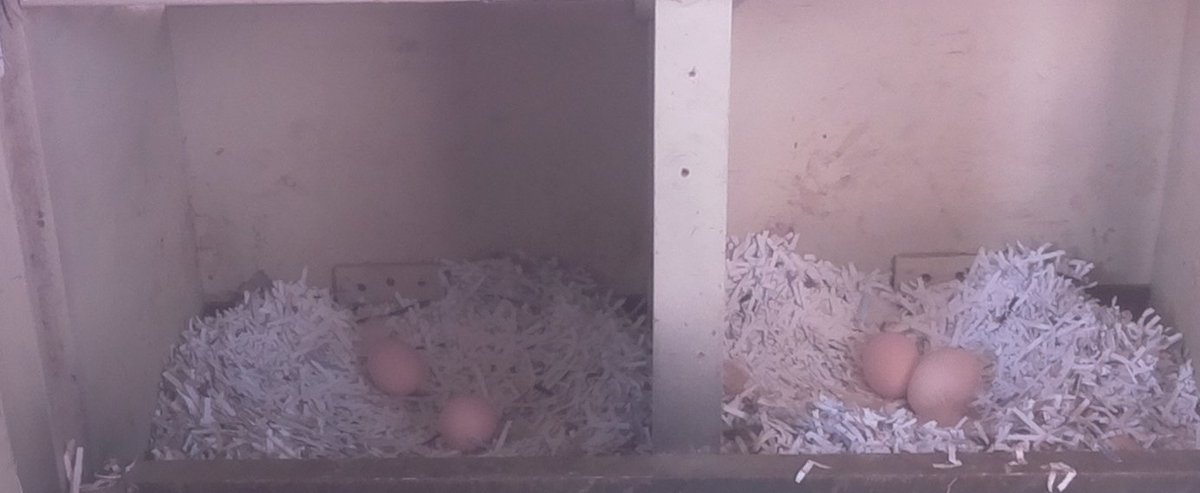egg: (899, 345, 992, 428), (858, 327, 918, 412), (435, 387, 504, 450), (365, 333, 427, 399)
